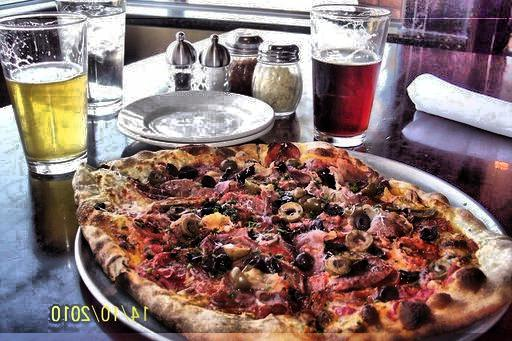pizza: (53, 116, 511, 341)
